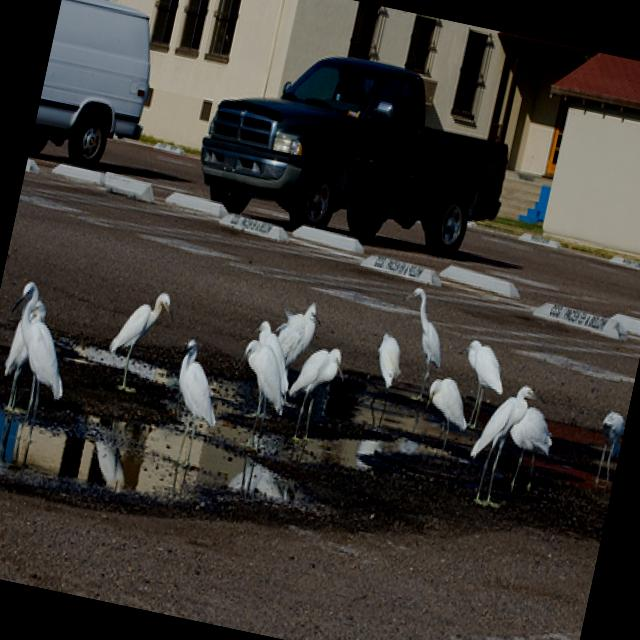Vehicle: (189, 30, 524, 271)
